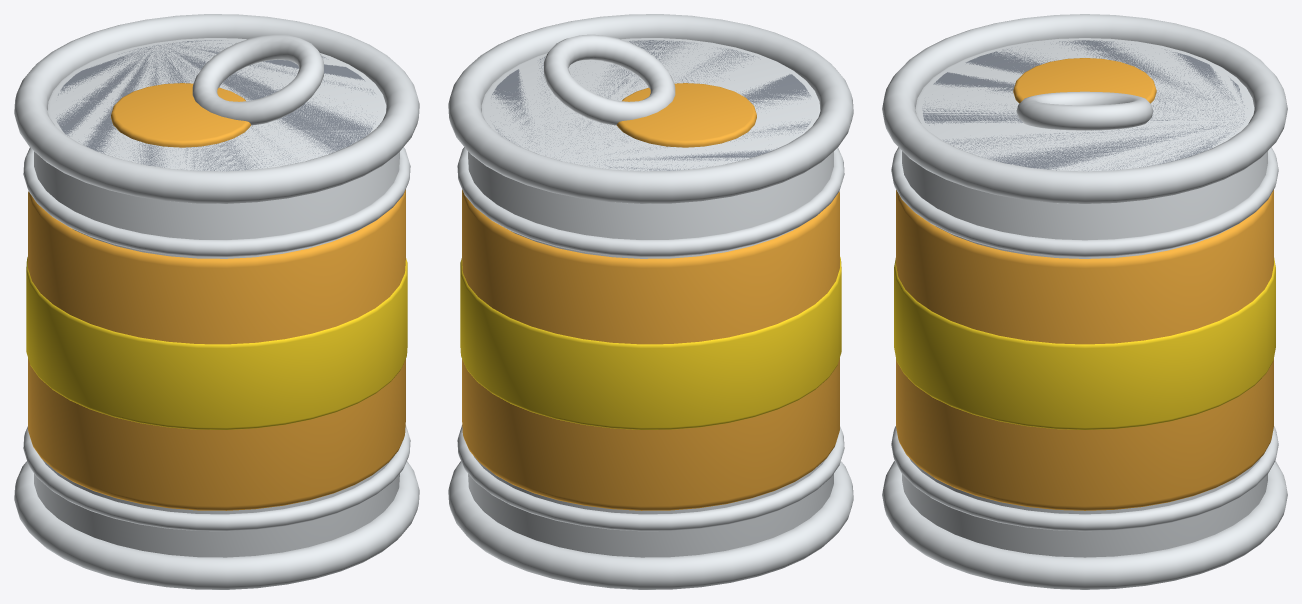
Rendered from SM_CannedFood.fbx.
3 views of the same model, side by side, from view 1: azimuth 30°, elevation 25°; view 2: azimuth 150°, elevation 25°; view 3: azimuth 270°, elevation 25° (orthographic).
Visible parts, largest first — view 1: SM_CannedFood; view 2: SM_CannedFood; view 3: SM_CannedFood.
Part boxes in pixels (x1,y1,x2,y2): SM_CannedFood: (14,14,419,589); SM_CannedFood: (448,14,853,589); SM_CannedFood: (882,14,1287,589).
Size of the model in its own units: 14.08 by 17.05 by 14.08.
